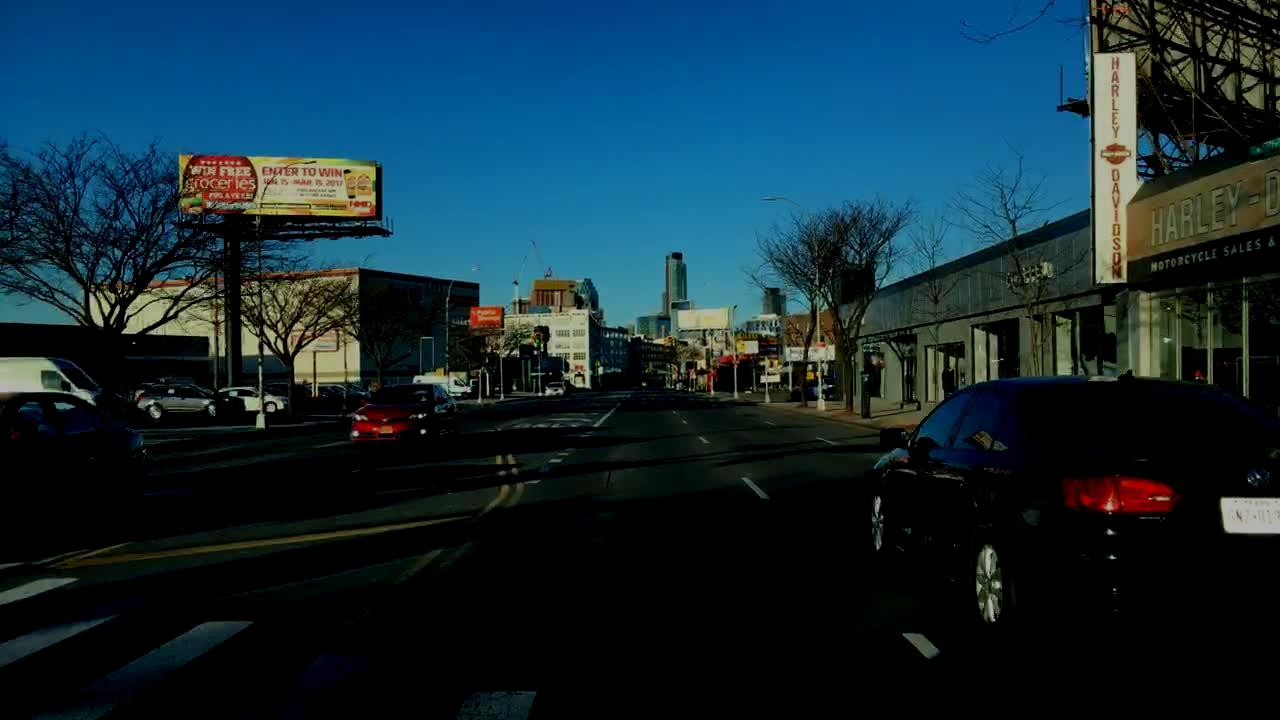Volkswagen: (1246, 463, 1273, 492)
